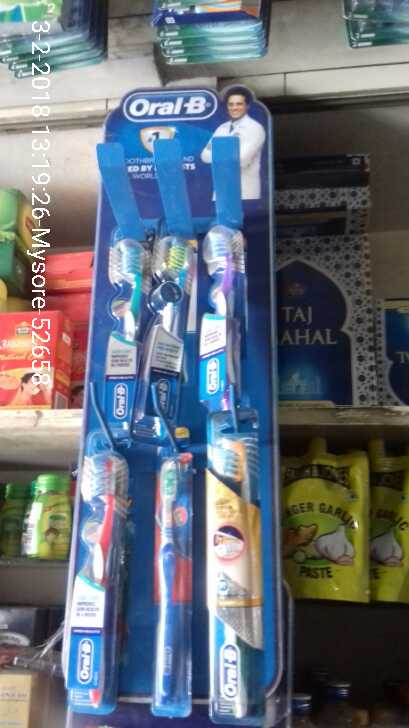oralb: (206, 434, 277, 716), (197, 216, 255, 412), (76, 447, 119, 695), (148, 458, 183, 728), (144, 232, 187, 432), (99, 226, 139, 425)
